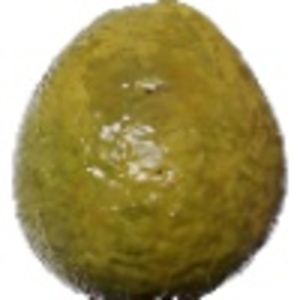goiaba: (13, 4, 288, 294)
